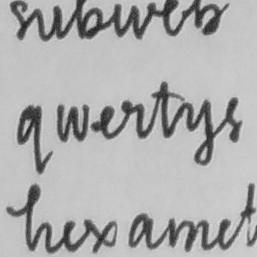e: (95, 103, 118, 141)
q: (13, 101, 52, 176)
r: (119, 97, 146, 140)
s: (221, 93, 244, 145)
t: (148, 78, 181, 140)
w: (53, 101, 92, 144)
y: (182, 97, 217, 167)
